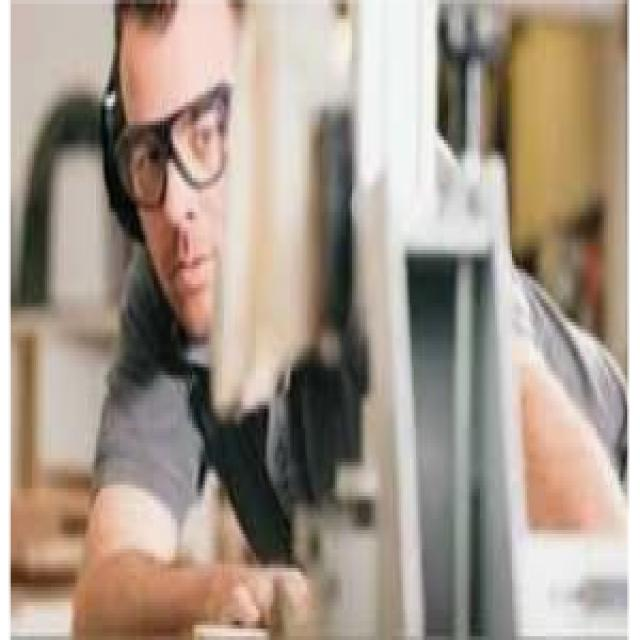glasses: (114, 74, 291, 202)
